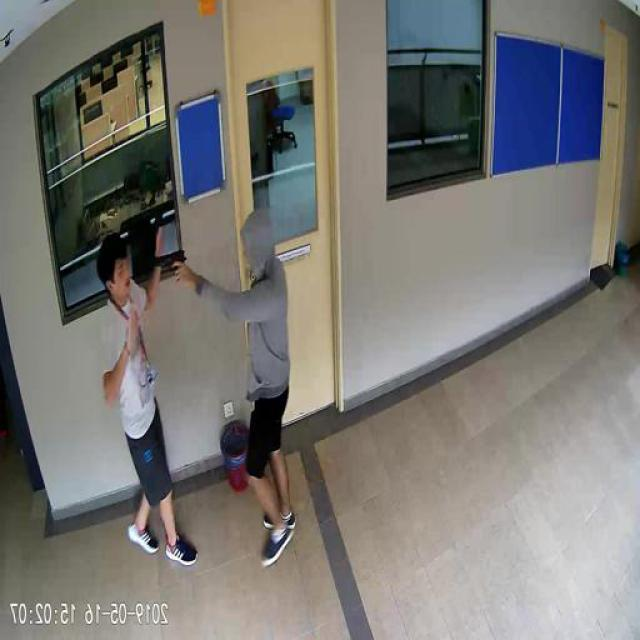Gun: (156, 248, 188, 282)
